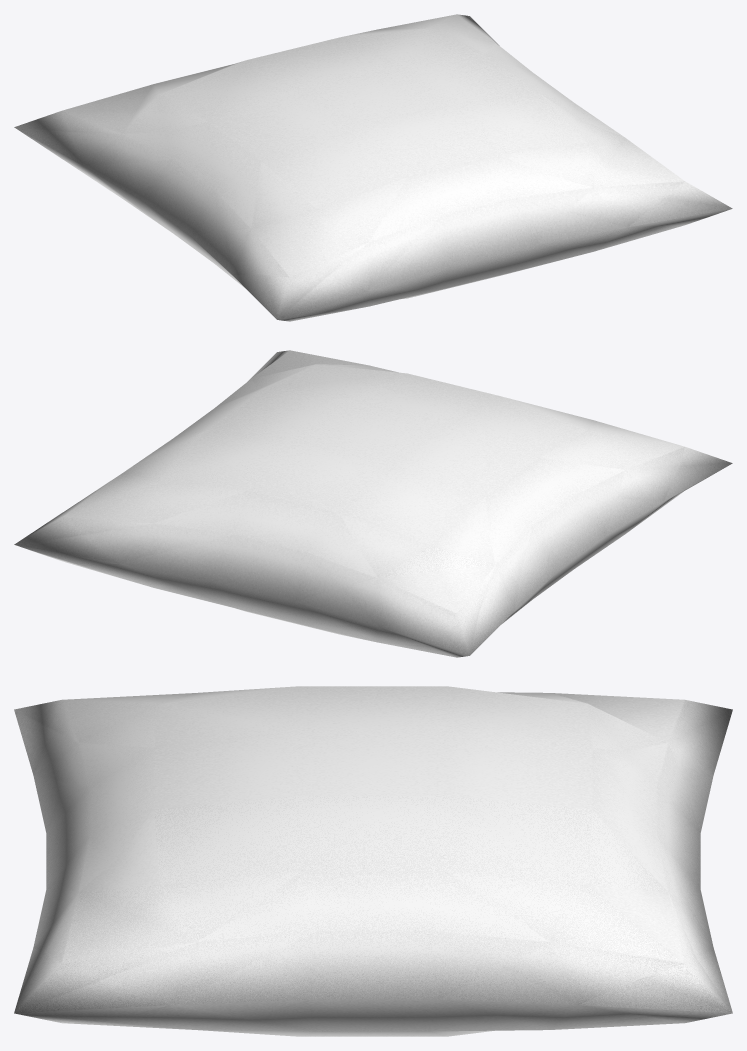
File: Pillow.fbx
3 views of the same model, one above another, from view 1: azimuth 30°, elevation 25°; view 2: azimuth 150°, elevation 25°; view 3: azimuth 270°, elevation 25° (orthographic). The views are drawn at different scales.
Parts seen in each view (by area): view 1: Pillow; view 2: Pillow; view 3: Pillow.
Part boxes in pixels (x1,y1,x2,y2): Pillow: (14, 14, 732, 321); Pillow: (14, 350, 732, 657); Pillow: (14, 686, 732, 1036).
Size of the model in its own units: 35.39 by 10.62 by 35.39.
